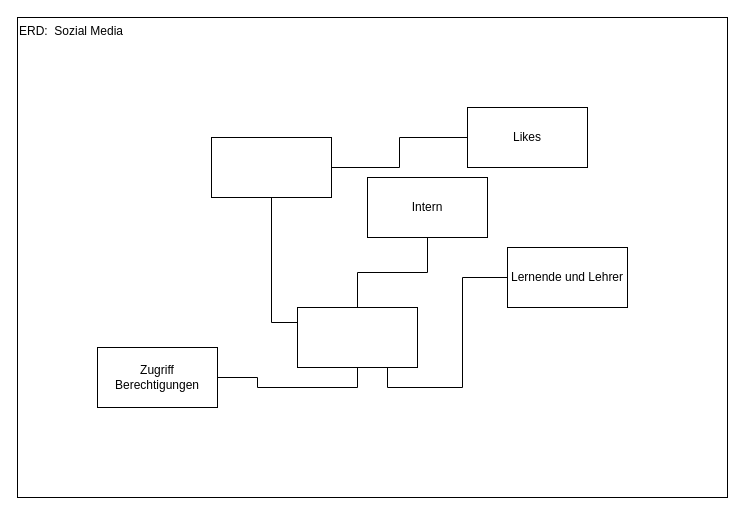
Image size: 745x515. Some labels were removed from this diagram. The centre of each missing label's shape, as x and y in pixels:
"Applikation" belongs at (357,337).
"Posts" belongs at (271,167).
